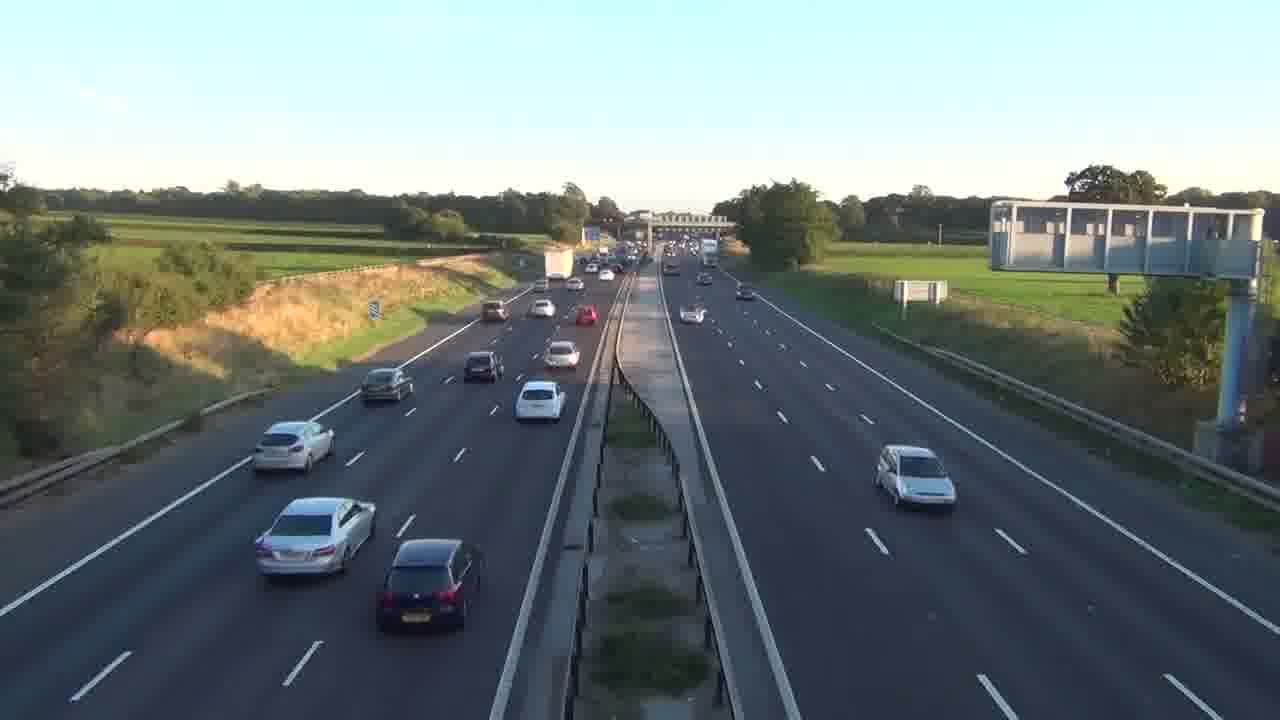car: (253, 495, 377, 581), (375, 537, 485, 633), (874, 444, 958, 512), (253, 420, 336, 472), (514, 378, 566, 423), (360, 366, 414, 405), (463, 350, 504, 384), (544, 339, 580, 368), (575, 304, 598, 326)
